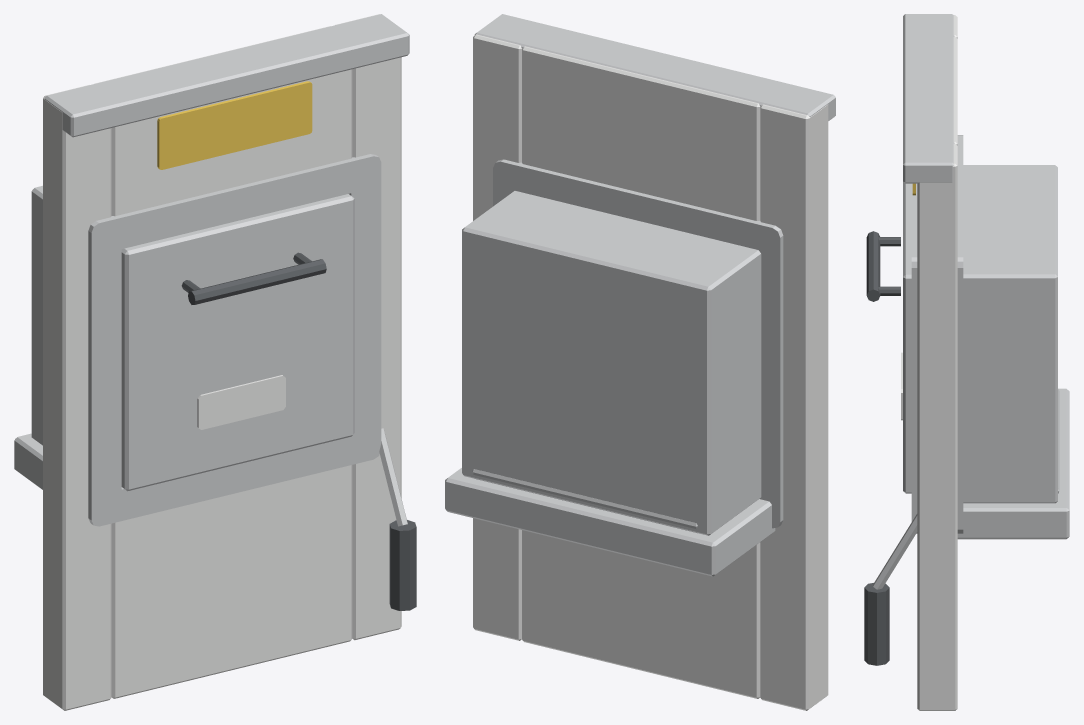
Rendered from laundrette-and-cleaning-laundry-chute-hatch-d142d74c__25521.glb.
3 renders of one model, left to right at view 1: azimuth 30°, elevation 25°; view 2: azimuth 150°, elevation 25°; view 3: azimuth 270°, elevation 25°, orthographic. The views are drawn at different scales.
Visible parts, largest first — view 1: laundry-chute-hatch, hatch/metal, hatch/carcass, hatch/dark; view 2: laundry-chute-hatch; view 3: laundry-chute-hatch, hatch/metal, hatch/dark.
Part boxes in pixels (x1,y1,x2,y2): laundry-chute-hatch: (14,14,416,710); hatch/metal: (121,194,354,491); hatch/carcass: (197,375,285,429); hatch/dark: (181,252,326,304); laundry-chute-hatch: (445,14,835,710); laundry-chute-hatch: (864,14,1069,710); hatch/metal: (903,182,911,493); hatch/dark: (866,231,900,301).
Bounding box in the file's own units: 0.6204 × 1.05 × 0.357.
